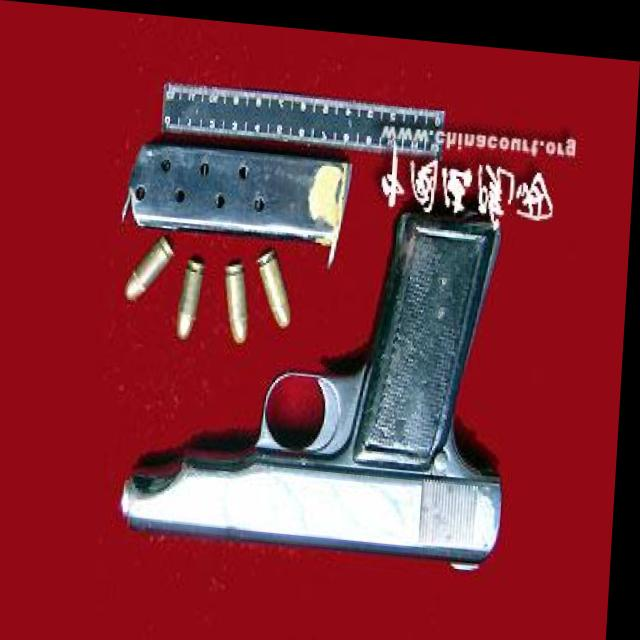handgun: (119, 174, 520, 569)
